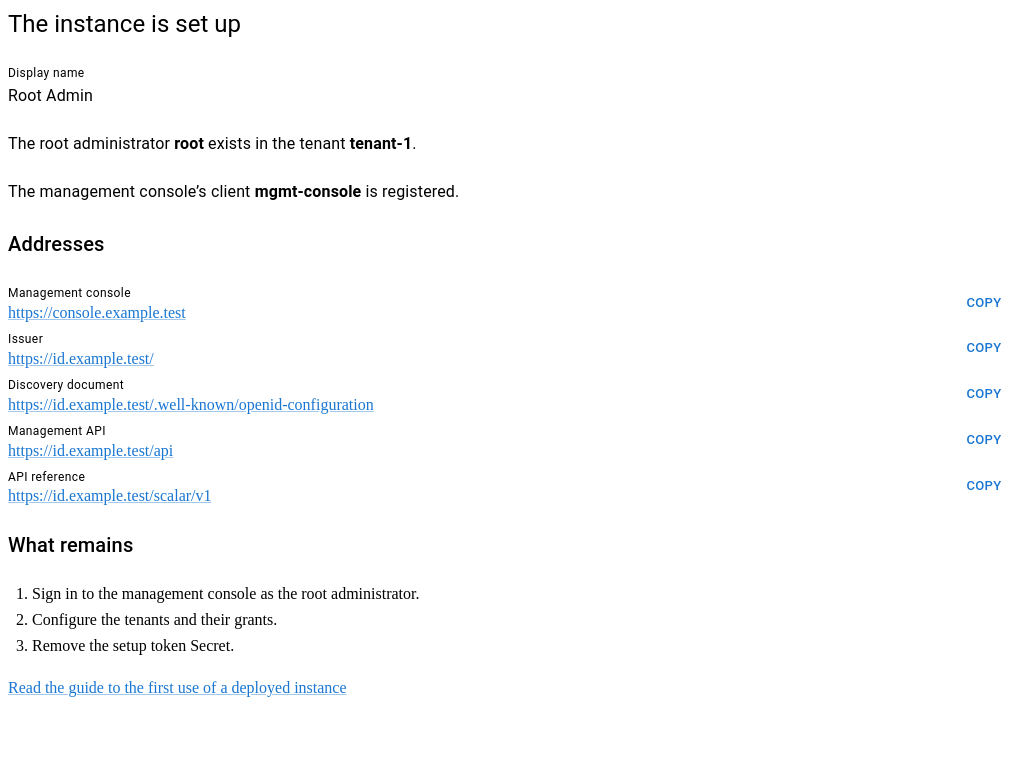
DonePage › copies an address to the clipboard and says so
Click the button with aria-label "Copy Issuer" at (984, 349), box x1=952 y1=333 x2=1016 y2=364
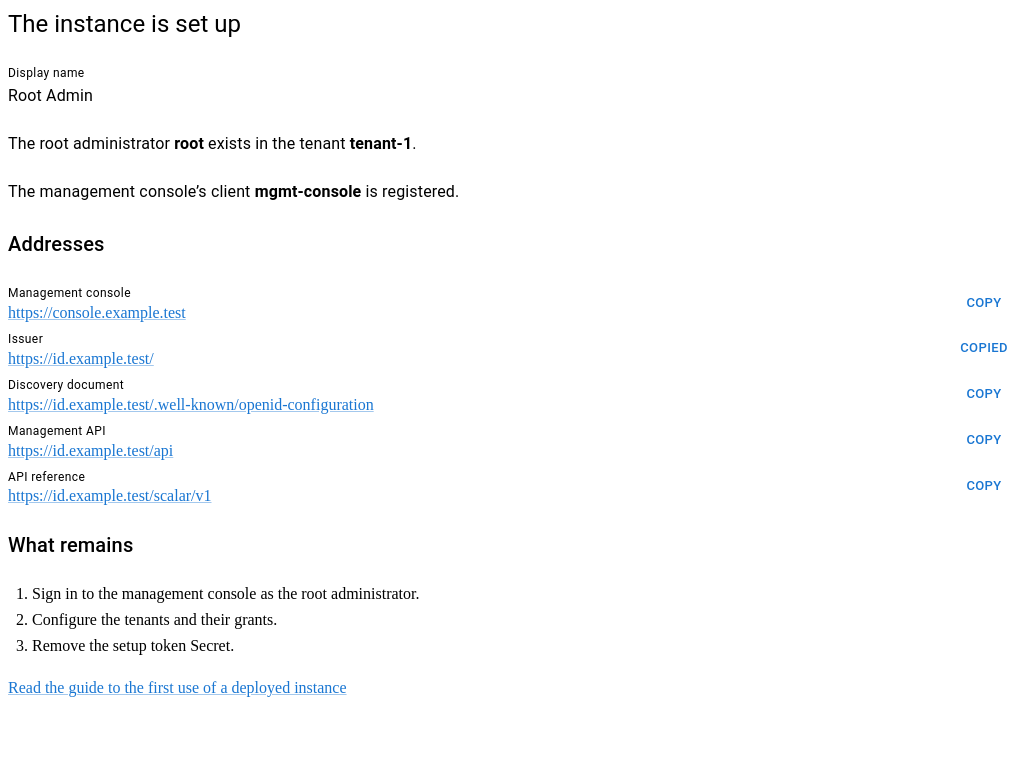
Expected: the button with aria-label "Copy Management API" reads "Copy", x1=952 y1=425 x2=1016 y2=456
Now the button with aria-label "Copy Issuer" reads "Copied", box x1=952 y1=333 x2=1016 y2=364
